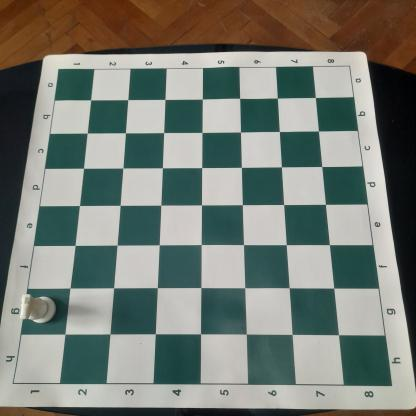white-knight: (18, 292, 58, 325)
